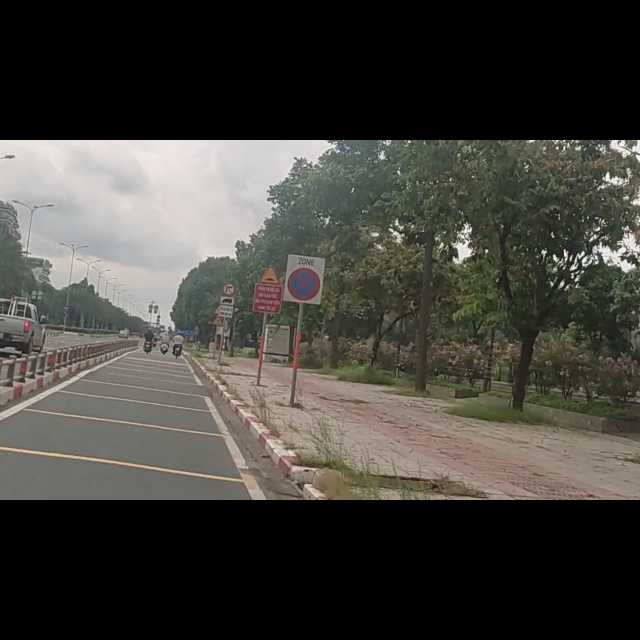bien_cam: (284, 201, 323, 292), (259, 222, 280, 257), (219, 277, 233, 318), (222, 254, 234, 275)
